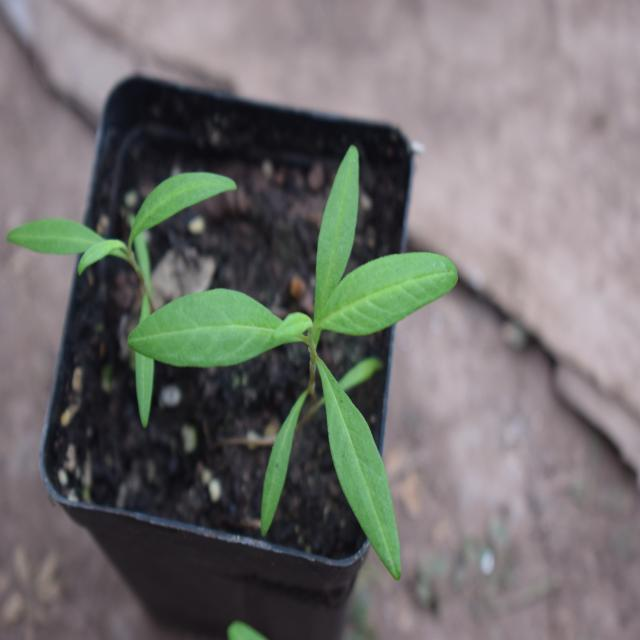white_smart_weed: (126, 168, 464, 587)
